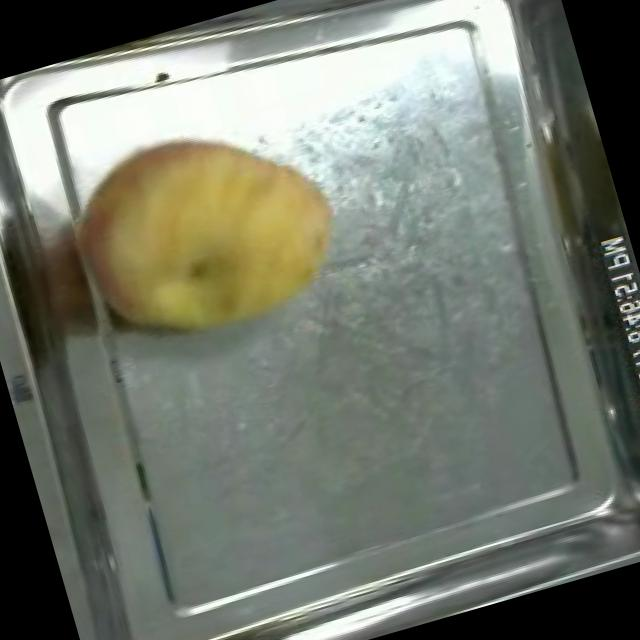Fruit: (52, 89, 366, 375)
